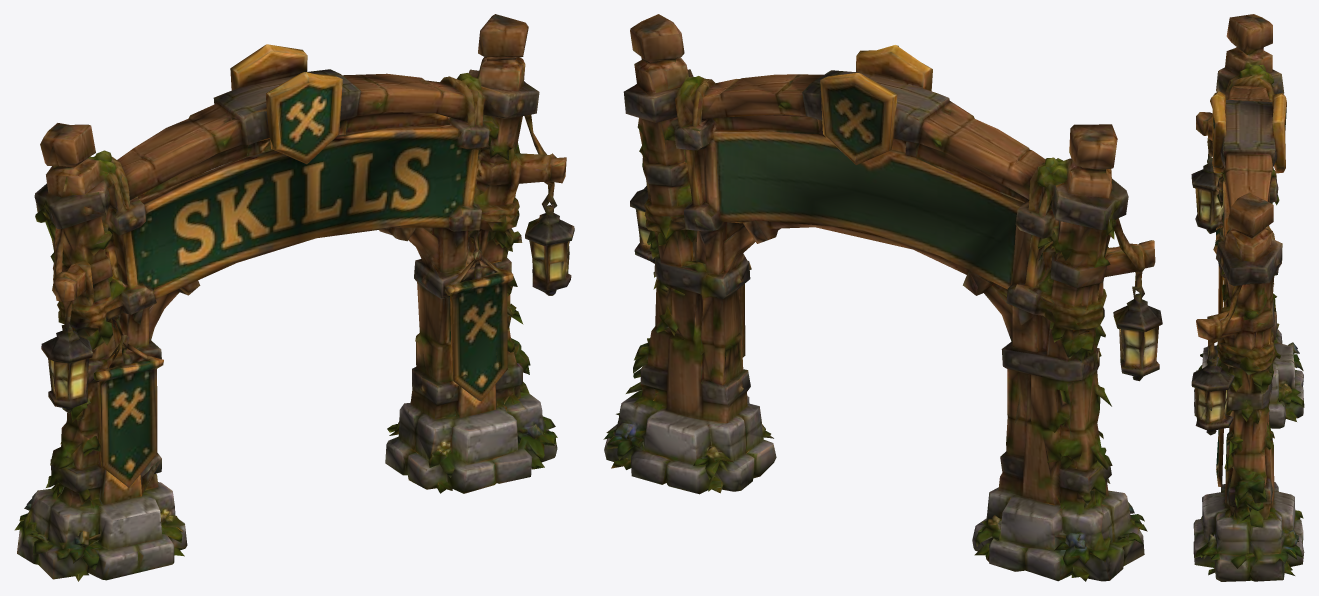
The model's file is arch-skills.glb.
3 views of the same model, side by side, from view 1: azimuth 30°, elevation 25°; view 2: azimuth 150°, elevation 25°; view 3: azimuth 270°, elevation 25° (orthographic). The views are drawn at different scales.
Visible parts, largest first — view 1: Mesh1.0; view 2: Mesh1.0; view 3: Mesh1.0.
Boxes of the visible parts, box(x1,y1,x2,y2) form: Mesh1.0: box(14, 14, 574, 581); Mesh1.0: box(603, 14, 1162, 581); Mesh1.0: box(1191, 14, 1304, 581).
Size of the model in its own units: 1.9 by 1.55 by 0.4147.
1 material, 1 textured.
